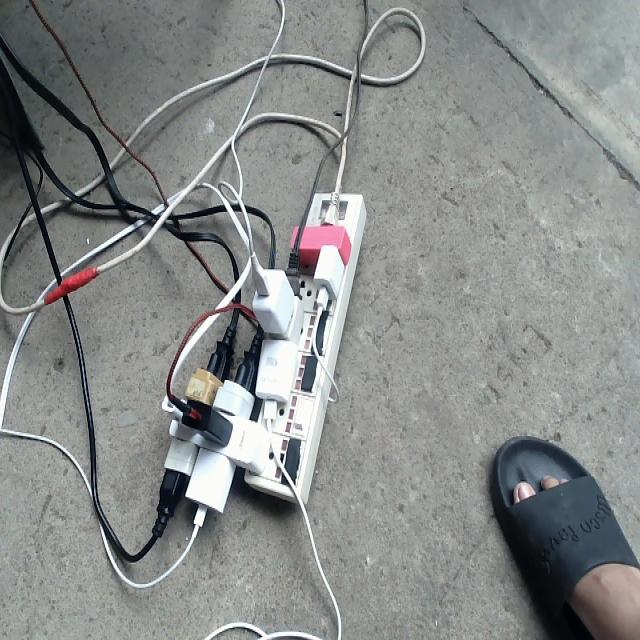-: (160, 191, 370, 529)
